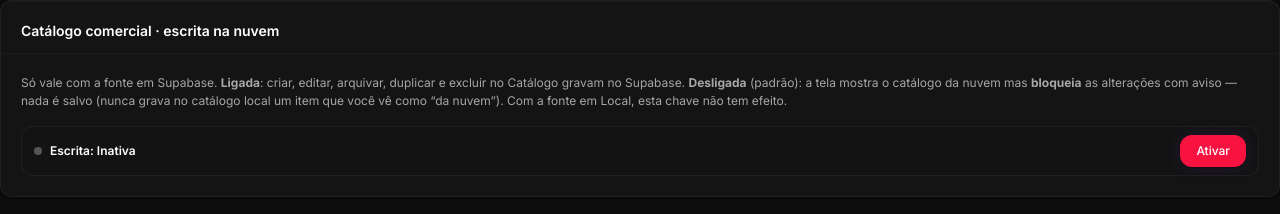
Test: CatalogSupabaseWriteToggleCard › padrão Inativa; 'Ativar' grava 'true'; 'Desativar' grava 'false'
Later steps or results of the test are not shown.
Expected: the text "Escrita: Inativa" is shown, [50,143,136,159]
Click the button "Ativar" at (1213, 151), box [1180,135,1246,167]
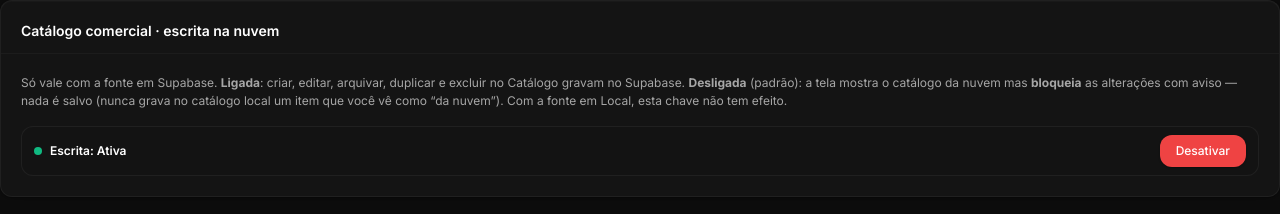
Result: the text "Escrita: Ativa" is shown at [50,143,126,159]
